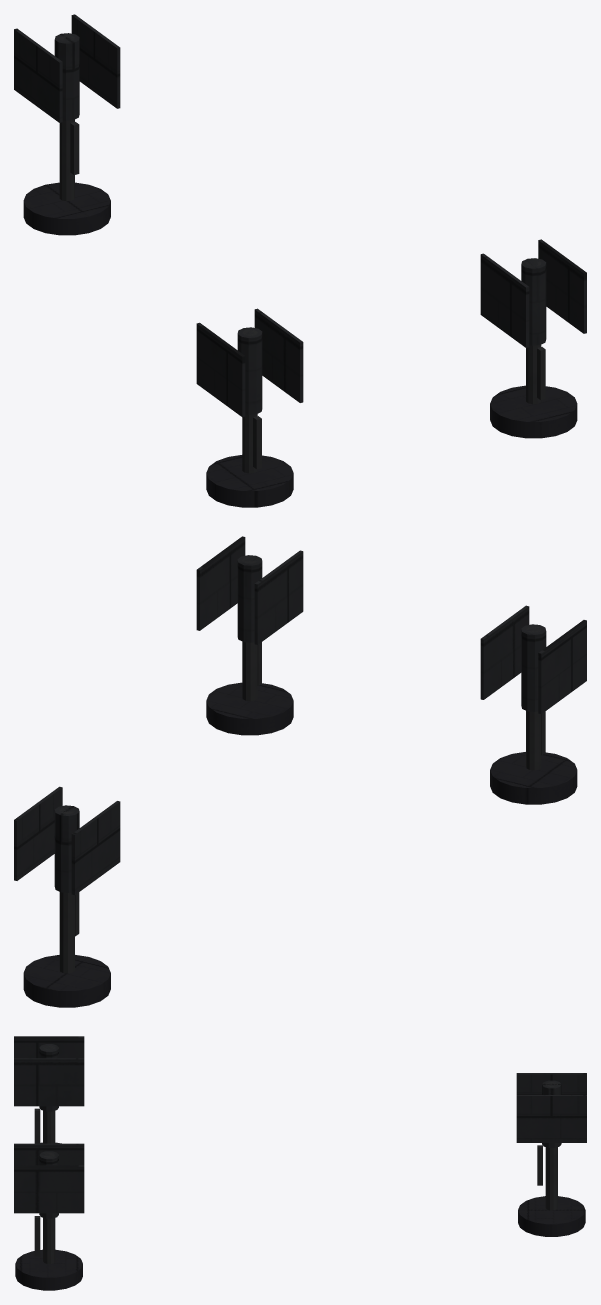
Rendered from TrenPata.fbx.
3 views of the same model, one above another, from view 1: azimuth 30°, elevation 25°; view 2: azimuth 150°, elevation 25°; view 3: azimuth 270°, elevation 25° (orthographic). The views are drawn at different scales.
Visible parts, largest first — view 1: TrenPata; view 2: TrenPata; view 3: TrenPata.
Boxes of the visible parts, <box> form: TrenPata: <box>14,14,586,507</box>; TrenPata: <box>14,536,586,1007</box>; TrenPata: <box>14,1036,586,1290</box>.
Bounding box in the file's own units: 682 × 325 × 1220.
